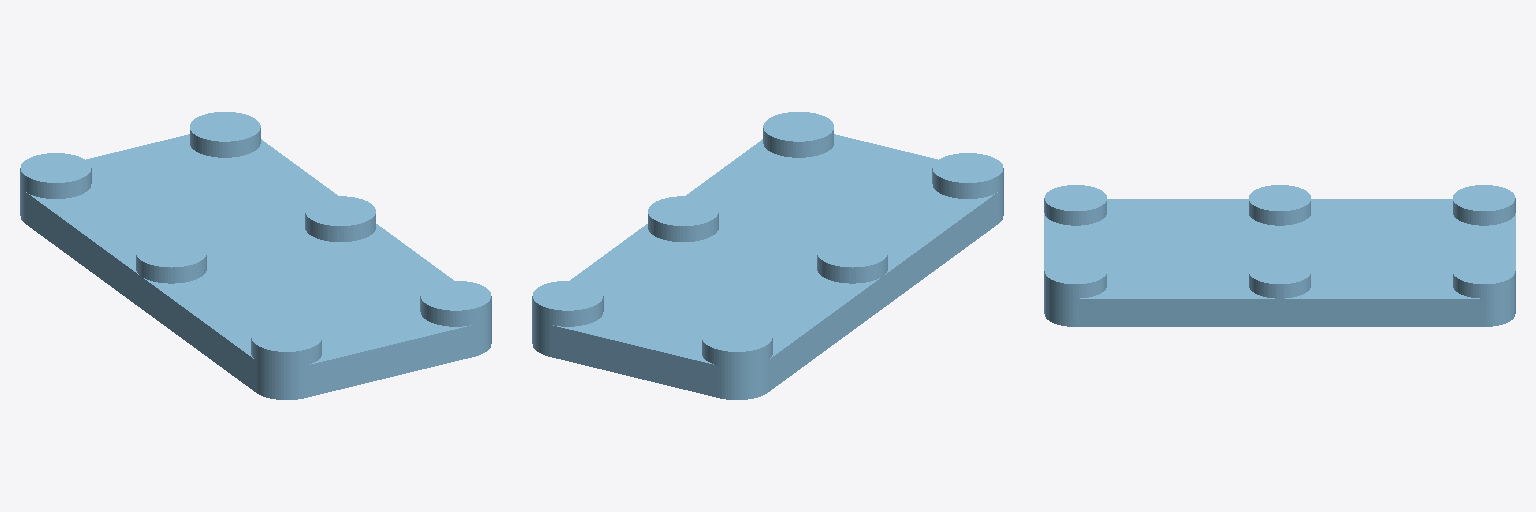
robot.urdf — onshape:
<robot name="onshape">
<link name="part_1">
<visual>
<origin xyz="0 0 0" rpy="0 -0 0" />
<geometry>
<mesh filename="package://quadruped_description/quadruped/part_1.stl"/>
</geometry>
<material name="part_1_material">
<color rgba="0.61568627450980395466 0.81176470588235294379 0.92941176470588238168 1.0"/>
</material>
</visual>
<collision>
<origin xyz="0 0 0" rpy="0 -0 0" />
<geometry>
<mesh filename="package://quadruped_description/quadruped/part_1.stl"/>
</geometry>
</collision>
<inertial>
<origin xyz="0.0099999999999999689831 8.4269380658660743889e-17 0.055838601945946725325" rpy="0 0 0"/>
<mass value="326.87920065876988929" />
<inertia ixx="63.344754222541560296" ixy="-1.2537678894135085843e-15"  ixz="1.5097018942200093052e-16" iyy="16.325740813613357716" iyz="-4.592017227053983098e-16" izz="78.893513511860987819" />
</inertial>
</link>

<link name="shoulder">
<visual>
<origin xyz="0 0 0" rpy="3.141592653589793116 -0 0" />
<geometry>
<mesh filename="package://quadruped_description/quadruped/shoulder.stl"/>
</geometry>
<material name="shoulder_material">
<color rgba="0.61568627450980395466 0.81176470588235294379 0.92941176470588238168 1.0"/>
</material>
</visual>
<collision>
<origin xyz="0 0 0" rpy="3.141592653589793116 -0 0" />
<geometry>
<mesh filename="package://quadruped_description/quadruped/shoulder.stl"/>
</geometry>
</collision>
<inertial>
<origin xyz="-3.7347681414163801479e-19 0.027929396093619204833 -0.095649350649350664555" rpy="0 0 0"/>
<mass value="10.885618544688634657" />
<inertia ixx="0.067417122752900543459" ixy="0"  ixz="0" iyy="0.075908462192995490581" iyz="0.0092341600956555008189" izz="0.043109319895117424737" />
</inertial>
</link>

<link name="upperlimb">
<visual>
<origin xyz="0 0 0" rpy="1.570796326794896558 -0 0" />
<geometry>
<mesh filename="package://quadruped_description/quadruped/upperlimb.stl"/>
</geometry>
<material name="upperlimb_material">
<color rgba="0.61568627450980395466 0.81176470588235294379 0.92941176470588238168 1.0"/>
</material>
</visual>
<collision>
<origin xyz="0 0 0" rpy="1.570796326794896558 -0 0" />
<geometry>
<mesh filename="package://quadruped_description/quadruped/upperlimb.stl"/>
</geometry>
</collision>
<inertial>
<origin xyz="-2.4439725848620533434e-18 -0.50000000000000011102 -0.041859986609857721684" rpy="0 0 0"/>
<mass value="48.066367599923843557" />
<inertia ixx="5.204489452505125513" ixy="0"  ixz="0" iyy="0.15045227104254321748" iyz="0" izz="5.2887141526857410767" />
</inertial>
</link>

<link name="lowerlimb">
<visual>
<origin xyz="0 1.5250000000000001332 0" rpy="1.570796326794896558 -4.6222318665293660473e-33 0" />
<geometry>
<mesh filename="package://quadruped_description/quadruped/lowerlimb.stl"/>
</geometry>
<material name="lowerlimb_material">
<color rgba="0.61568627450980395466 0.81176470588235294379 0.92941176470588238168 1.0"/>
</material>
</visual>
<collision>
<origin xyz="0 1.5250000000000001332 0" rpy="1.570796326794896558 -4.6222318665293660473e-33 0" />
<geometry>
<mesh filename="package://quadruped_description/quadruped/lowerlimb.stl"/>
</geometry>
</collision>
<inertial>
<origin xyz="4.0731331005033949627e-18 0.86258161512027509144 -0.029947488034416901159" rpy="0 0 0"/>
<mass value="82.278311597516690767" />
<inertia ixx="21.219064546212177191" ixy="-1.1534501519517249664e-16"  ixz="3.2465757913573069754e-32" iyy="0.32911778625415522015" iyz="-0.58453590065355065519" izz="21.292856017780909639" />
</inertial>
</link>

<joint name="lowerlimb1" type="revolute">
<origin xyz="0 -1 0" rpy="-3.141592653589793116 6.1232339957367598729e-17 2.7925268031909271649" />
<parent link="upperlimb" />
<child link="lowerlimb" />
<axis xyz="0 0 1"/>
<limit effort="1" velocity="20" lower="0.34906585039886589561" upper="3.141592653589793116"/>
<joint_properties friction="0.0"/>
</joint>

<joint name="upperlimb1" type="revolute">
<origin xyz="5.5511151231257827021e-17 0 -0.1500000000000000222" rpy="1.570796326794896558 -0 3.141592653589793116" />
<parent link="shoulder" />
<child link="upperlimb" />
<axis xyz="0 0 1"/>
<limit effort="1" velocity="20" lower="-0.34906585039886589561" upper="1.570796326794896558"/>
<joint_properties friction="0.0"/>
</joint>

<joint name="shoulder1" type="revolute">
<origin xyz="-0.26499999999999995781 -0.65000000000000013323 0.1500000000000000222" rpy="3.141592653589793116 -0 0" />
<parent link="part_1" />
<child link="shoulder" />
<axis xyz="0 0 1"/>
<limit effort="1" velocity="20" lower="-1.570796326794896558" upper="0.785398163397448279"/>
<joint_properties friction="0.0"/>
</joint>

<link name="shoulder_2">
<visual>
<origin xyz="0 0 0" rpy="3.141592653589793116 -0 0" />
<geometry>
<mesh filename="package://quadruped_description/quadruped/shoulder.stl"/>
</geometry>
<material name="shoulder_material">
<color rgba="0.61568627450980395466 0.81176470588235294379 0.92941176470588238168 1.0"/>
</material>
</visual>
<collision>
<origin xyz="0 0 0" rpy="3.141592653589793116 -0 0" />
<geometry>
<mesh filename="package://quadruped_description/quadruped/shoulder.stl"/>
</geometry>
</collision>
<inertial>
<origin xyz="-3.7347681414163801479e-19 0.027929396093619204833 -0.095649350649350664555" rpy="0 0 0"/>
<mass value="10.885618544688634657" />
<inertia ixx="0.067417122752900543459" ixy="0"  ixz="0" iyy="0.075908462192995490581" iyz="0.0092341600956555008189" izz="0.043109319895117424737" />
</inertial>
</link>

<link name="upperlimb_2">
<visual>
<origin xyz="0 0 0" rpy="1.570796326794896558 -0 0" />
<geometry>
<mesh filename="package://quadruped_description/quadruped/upperlimb.stl"/>
</geometry>
<material name="upperlimb_material">
<color rgba="0.61568627450980395466 0.81176470588235294379 0.92941176470588238168 1.0"/>
</material>
</visual>
<collision>
<origin xyz="0 0 0" rpy="1.570796326794896558 -0 0" />
<geometry>
<mesh filename="package://quadruped_description/quadruped/upperlimb.stl"/>
</geometry>
</collision>
<inertial>
<origin xyz="-2.4439725848620533434e-18 -0.50000000000000011102 -0.041859986609857721684" rpy="0 0 0"/>
<mass value="48.066367599923843557" />
<inertia ixx="5.204489452505125513" ixy="0"  ixz="0" iyy="0.15045227104254321748" iyz="0" izz="5.2887141526857410767" />
</inertial>
</link>

<link name="lowerlimb_2">
<visual>
<origin xyz="-1.1102230246251565404e-16 1.5249999999999999112 0" rpy="1.570796326794896558 -7.7037197775489434122e-33 0" />
<geometry>
<mesh filename="package://quadruped_description/quadruped/lowerlimb.stl"/>
</geometry>
<material name="lowerlimb_material">
<color rgba="0.61568627450980395466 0.81176470588235294379 0.92941176470588238168 1.0"/>
</material>
</visual>
<collision>
<origin xyz="-1.1102230246251565404e-16 1.5249999999999999112 0" rpy="1.570796326794896558 -7.7037197775489434122e-33 0" />
<geometry>
<mesh filename="package://quadruped_description/quadruped/lowerlimb.stl"/>
</geometry>
</collision>
<inertial>
<origin xyz="-1.0694916936201226216e-16 0.86258161512027475837 -0.029947488034416901159" rpy="0 0 0"/>
<mass value="82.278311597516690767" />
<inertia ixx="21.219064546212177191" ixy="-1.1534501519517249664e-16"  ixz="2.9469308402548699336e-31" iyy="0.32911778625415522015" iyz="-0.58453590065355065519" izz="21.292856017780909639" />
</inertial>
</link>

<joint name="lowerlimb2" type="revolute">
<origin xyz="-5.5511151231257827021e-17 -1 0" rpy="-3.141592653589793116 6.1232339957367660359e-17 -2.792526803190927609" />
<parent link="upperlimb_2" />
<child link="lowerlimb_2" />
<axis xyz="0 0 1"/>
<limit effort="1" velocity="20" lower="-3.141592653589793116" upper="-0.34906585039886589561"/>
<joint_properties friction="0.0"/>
</joint>

<joint name="upperlimb2" type="revolute">
<origin xyz="0 0 -0.15000000000000007772" rpy="1.570796326794896558 -0 3.141592653589793116" />
<parent link="shoulder_2" />
<child link="upperlimb_2" />
<axis xyz="0 0 1"/>
<limit effort="1" velocity="20" lower="-1.570796326794896558" upper="0.34906585039886589561"/>
<joint_properties friction="0.0"/>
</joint>

<joint name="shoulder2" type="revolute">
<origin xyz="0.2850000000000000866 -0.6500000000000000222 0.1500000000000000222" rpy="3.141592653589793116 -0 0" />
<parent link="part_1" />
<child link="shoulder_2" />
<axis xyz="0 0 1"/>
<limit effort="1" velocity="20" lower="-0.785398163397448279" upper="1.570796326794896558"/>
<joint_properties friction="0.0"/>
</joint>

<link name="shoulder_3">
<visual>
<origin xyz="0 6.1232339957367771292e-18 0" rpy="3.141592653589793116 -0 0" />
<geometry>
<mesh filename="package://quadruped_description/quadruped/shoulder.stl"/>
</geometry>
<material name="shoulder_material">
<color rgba="0.61568627450980395466 0.81176470588235294379 0.92941176470588238168 1.0"/>
</material>
</visual>
<collision>
<origin xyz="0 6.1232339957367771292e-18 0" rpy="3.141592653589793116 -0 0" />
<geometry>
<mesh filename="package://quadruped_description/quadruped/shoulder.stl"/>
</geometry>
</collision>
<inertial>
<origin xyz="-3.7347681414163801479e-19 0.027929396093619211772 -0.095649350649350664555" rpy="0 0 0"/>
<mass value="10.885618544688634657" />
<inertia ixx="0.067417122752900543459" ixy="0"  ixz="0" iyy="0.075908462192995490581" iyz="0.0092341600956555008189" izz="0.043109319895117424737" />
</inertial>
</link>

<link name="upperlimb_3">
<visual>
<origin xyz="0 0 0" rpy="1.570796326794896558 -0 0" />
<geometry>
<mesh filename="package://quadruped_description/quadruped/upperlimb.stl"/>
</geometry>
<material name="upperlimb_material">
<color rgba="0.61568627450980395466 0.81176470588235294379 0.92941176470588238168 1.0"/>
</material>
</visual>
<collision>
<origin xyz="0 0 0" rpy="1.570796326794896558 -0 0" />
<geometry>
<mesh filename="package://quadruped_description/quadruped/upperlimb.stl"/>
</geometry>
</collision>
<inertial>
<origin xyz="-2.4439725848620533434e-18 -0.50000000000000011102 -0.041859986609857721684" rpy="0 0 0"/>
<mass value="48.066367599923843557" />
<inertia ixx="5.204489452505125513" ixy="0"  ixz="0" iyy="0.15045227104254321748" iyz="0" izz="5.2887141526857410767" />
</inertial>
</link>

<link name="lowerlimb_3">
<visual>
<origin xyz="0 1.5249999999999999112 0" rpy="1.570796326794896558 -4.6222318665293660473e-33 0" />
<geometry>
<mesh filename="package://quadruped_description/quadruped/lowerlimb.stl"/>
</geometry>
<material name="lowerlimb_material">
<color rgba="0.61568627450980395466 0.81176470588235294379 0.92941176470588238168 1.0"/>
</material>
</visual>
<collision>
<origin xyz="0 1.5249999999999999112 0" rpy="1.570796326794896558 -4.6222318665293660473e-33 0" />
<geometry>
<mesh filename="package://quadruped_description/quadruped/lowerlimb.stl"/>
</geometry>
</collision>
<inertial>
<origin xyz="4.0731331005033949627e-18 0.86258161512027475837 -0.029947488034416901159" rpy="0 0 0"/>
<mass value="82.278311597516690767" />
<inertia ixx="21.219064546212177191" ixy="-1.1534501519517249664e-16"  ixz="-3.3147920496299262356e-32" iyy="0.32911778625415522015" iyz="-0.58453590065355065519" izz="21.292856017780909639" />
</inertial>
</link>

<joint name="lowerlimb3" type="revolute">
<origin xyz="0 -0.99999999999999977796 0" rpy="-3.141592653589793116 6.1232339957367648033e-17 2.7925268031909271649" />
<parent link="upperlimb_3" />
<child link="lowerlimb_3" />
<axis xyz="0 0 1"/>
<limit effort="1" velocity="20" lower="0.34906585039886589561" upper="3.141592653589793116"/>
<joint_properties friction="0.0"/>
</joint>

<joint name="upperlimb3" type="revolute">
<origin xyz="0 6.1232339957367771292e-18 -0.1500000000000000222" rpy="1.570796326794896558 -0 3.141592653589793116" />
<parent link="shoulder_3" />
<child link="upperlimb_3" />
<axis xyz="0 0 1"/>
<limit effort="1" velocity="20" lower="-0.34906585039886589561" upper="1.570796326794896558"/>
<joint_properties friction="0.0"/>
</joint>

<joint name="shoulder3" type="revolute">
<origin xyz="-0.26500000000000001332 -1.2571575017850056205e-16 0.1500000000000000222" rpy="3.141592653589793116 -0 0" />
<parent link="part_1" />
<child link="shoulder_3" />
<axis xyz="0 0 1"/>
<limit effort="1" velocity="20" lower="-0.785398163397448279" upper="0.785398163397448279"/>
<joint_properties friction="0.0"/>
</joint>

<link name="shoulder_4">
<visual>
<origin xyz="0 6.123233995736766344e-18 0" rpy="3.141592653589793116 -0 0" />
<geometry>
<mesh filename="package://quadruped_description/quadruped/shoulder.stl"/>
</geometry>
<material name="shoulder_material">
<color rgba="0.61568627450980395466 0.81176470588235294379 0.92941176470588238168 1.0"/>
</material>
</visual>
<collision>
<origin xyz="0 6.123233995736766344e-18 0" rpy="3.141592653589793116 -0 0" />
<geometry>
<mesh filename="package://quadruped_description/quadruped/shoulder.stl"/>
</geometry>
</collision>
<inertial>
<origin xyz="-3.7347681414163801479e-19 0.027929396093619211772 -0.095649350649350664555" rpy="0 0 0"/>
<mass value="10.885618544688634657" />
<inertia ixx="0.067417122752900543459" ixy="0"  ixz="0" iyy="0.075908462192995490581" iyz="0.0092341600956555008189" izz="0.043109319895117424737" />
</inertial>
</link>

<link name="upperlimb_4">
<visual>
<origin xyz="0 0 0" rpy="1.570796326794896558 -0 0" />
<geometry>
<mesh filename="package://quadruped_description/quadruped/upperlimb.stl"/>
</geometry>
<material name="upperlimb_material">
<color rgba="0.61568627450980395466 0.81176470588235294379 0.92941176470588238168 1.0"/>
</material>
</visual>
<collision>
<origin xyz="0 0 0" rpy="1.570796326794896558 -0 0" />
<geometry>
<mesh filename="package://quadruped_description/quadruped/upperlimb.stl"/>
</geometry>
</collision>
<inertial>
<origin xyz="-2.4439725848620533434e-18 -0.50000000000000011102 -0.041859986609857721684" rpy="0 0 0"/>
<mass value="48.066367599923843557" />
<inertia ixx="5.204489452505125513" ixy="0"  ixz="0" iyy="0.15045227104254321748" iyz="0" izz="5.2887141526857410767" />
</inertial>
</link>

<link name="lowerlimb_4">
<visual>
<origin xyz="-1.1102230246251565404e-16 1.5249999999999999112 0" rpy="1.570796326794896558 -7.7037197775489434122e-33 0" />
<geometry>
<mesh filename="package://quadruped_description/quadruped/lowerlimb.stl"/>
</geometry>
<material name="lowerlimb_material">
<color rgba="0.61568627450980395466 0.81176470588235294379 0.92941176470588238168 1.0"/>
</material>
</visual>
<collision>
<origin xyz="-1.1102230246251565404e-16 1.5249999999999999112 0" rpy="1.570796326794896558 -7.7037197775489434122e-33 0" />
<geometry>
<mesh filename="package://quadruped_description/quadruped/lowerlimb.stl"/>
</geometry>
</collision>
<inertial>
<origin xyz="-1.0694916936201226216e-16 0.86258161512027475837 -0.029947488034416901159" rpy="0 0 0"/>
<mass value="82.278311597516690767" />
<inertia ixx="21.219064546212177191" ixy="-1.1534501519517249664e-16"  ixz="2.9469308402548699336e-31" iyy="0.32911778625415522015" iyz="-0.58453590065355065519" izz="21.292856017780909639" />
</inertial>
</link>

<joint name="lowerlimb4" type="revolute">
<origin xyz="0 -1 3.336929161102777063e-33" rpy="-3.141592653589793116 6.1232339957367660359e-17 -2.792526803190927609" />
<parent link="upperlimb_4" />
<child link="lowerlimb_4" />
<axis xyz="0 0 1"/>
<limit effort="1" velocity="20" lower="-3.141592653589793116" upper="-0.34906585039886589561"/>
<joint_properties friction="0.0"/>
</joint>

<joint name="upperlimb4" type="revolute">
<origin xyz="0 6.123233995736766344e-18 -0.1500000000000000222" rpy="1.570796326794896558 -0 3.141592653589793116" />
<parent link="shoulder_4" />
<child link="upperlimb_4" />
<axis xyz="0 0 1"/>
<limit effort="1" velocity="20" lower="-1.570796326794896558" upper="0.34906585039886589561"/>
<joint_properties friction="0.0"/>
</joint>

<joint name="shoulder4" type="revolute">
<origin xyz="0.28500000000000003109 6.123233995736766344e-18 0.1500000000000000222" rpy="3.141592653589793116 -0 0" />
<parent link="part_1" />
<child link="shoulder_4" />
<axis xyz="0 0 1"/>
<limit effort="1" velocity="20" lower="-0.785398163397448279" upper="0.785398163397448279"/>
<joint_properties friction="0.0"/>
</joint>

<link name="shoulder_5">
<visual>
<origin xyz="0 0 0" rpy="3.141592653589793116 -0 0" />
<geometry>
<mesh filename="package://quadruped_description/quadruped/shoulder.stl"/>
</geometry>
<material name="shoulder_material">
<color rgba="0.61568627450980395466 0.81176470588235294379 0.92941176470588238168 1.0"/>
</material>
</visual>
<collision>
<origin xyz="0 0 0" rpy="3.141592653589793116 -0 0" />
<geometry>
<mesh filename="package://quadruped_description/quadruped/shoulder.stl"/>
</geometry>
</collision>
<inertial>
<origin xyz="-3.7347681414163801479e-19 0.027929396093619204833 -0.095649350649350664555" rpy="0 0 0"/>
<mass value="10.885618544688634657" />
<inertia ixx="0.067417122752900543459" ixy="0"  ixz="0" iyy="0.075908462192995490581" iyz="0.0092341600956555008189" izz="0.043109319895117424737" />
</inertial>
</link>

<link name="upperlimb_5">
<visual>
<origin xyz="0 0 0" rpy="1.570796326794896558 -0 0" />
<geometry>
<mesh filename="package://quadruped_description/quadruped/upperlimb.stl"/>
</geometry>
<material name="upperlimb_material">
<color rgba="0.61568627450980395466 0.81176470588235294379 0.92941176470588238168 1.0"/>
</material>
</visual>
<collision>
<origin xyz="0 0 0" rpy="1.570796326794896558 -0 0" />
<geometry>
<mesh filename="package://quadruped_description/quadruped/upperlimb.stl"/>
</geometry>
</collision>
<inertial>
<origin xyz="-2.4439725848620533434e-18 -0.50000000000000011102 -0.041859986609857721684" rpy="0 0 0"/>
<mass value="48.066367599923843557" />
<inertia ixx="5.204489452505125513" ixy="0"  ixz="0" iyy="0.15045227104254321748" iyz="0" izz="5.2887141526857410767" />
</inertial>
</link>

<link name="lowerlimb_5">
<visual>
<origin xyz="-1.1102230246251565404e-16 1.5249999999999999112 0" rpy="1.570796326794896558 -4.6222318665293660473e-33 0" />
<geometry>
<mesh filename="package://quadruped_description/quadruped/lowerlimb.stl"/>
</geometry>
<material name="lowerlimb_material">
<color rgba="0.61568627450980395466 0.81176470588235294379 0.92941176470588238168 1.0"/>
</material>
</visual>
<collision>
<origin xyz="-1.1102230246251565404e-16 1.5249999999999999112 0" rpy="1.570796326794896558 -4.6222318665293660473e-33 0" />
<geometry>
<mesh filename="package://quadruped_description/quadruped/lowerlimb.stl"/>
</geometry>
</collision>
<inertial>
<origin xyz="-1.0694916936201226216e-16 0.86258161512027475837 -0.029947488034416901159" rpy="0 0 0"/>
<mass value="82.278311597516690767" />
<inertia ixx="21.219064546212177191" ixy="-1.1534501519517249664e-16"  ixz="-3.3147920496299262356e-32" iyy="0.32911778625415522015" iyz="-0.58453590065355065519" izz="21.292856017780909639" />
</inertial>
</link>

<joint name="lowerlimb5" type="revolute">
<origin xyz="0 -0.99999999999999977796 0" rpy="-3.141592653589793116 6.1232339957367648033e-17 2.7925268031909271649" />
<parent link="upperlimb_5" />
<child link="lowerlimb_5" />
<axis xyz="0 0 1"/>
<limit effort="1" velocity="20" lower="0.34906585039886589561" upper="3.141592653589793116"/>
<joint_properties friction="0.0"/>
</joint>

<joint name="upperlimb5" type="revolute">
<origin xyz="0 0 -0.1500000000000000222" rpy="1.570796326794896558 -0 3.141592653589793116" />
<parent link="shoulder_5" />
<child link="upperlimb_5" />
<axis xyz="0 0 1"/>
<limit effort="1" velocity="20" lower="-0.34906585039886589561" upper="1.570796326794896558"/>
<joint_properties friction="0.0"/>
</joint>

<joint name="shoulder5" type="revolute">
<origin xyz="-0.26500000000000001332 0.64999999999999991118 0.1500000000000000222" rpy="3.141592653589793116 -0 0" />
<parent link="part_1" />
<child link="shoulder_5" />
<axis xyz="0 0 1"/>
<limit effort="1" velocity="20" lower="-0.785398163397448279" upper="1.570796326794896558"/>
<joint_properties friction="0.0"/>
</joint>

<link name="shoulder_6">
<visual>
<origin xyz="0 0 0" rpy="3.141592653589793116 -0 0" />
<geometry>
<mesh filename="package://quadruped_description/quadruped/shoulder.stl"/>
</geometry>
<material name="shoulder_material">
<color rgba="0.61568627450980395466 0.81176470588235294379 0.92941176470588238168 1.0"/>
</material>
</visual>
<collision>
<origin xyz="0 0 0" rpy="3.141592653589793116 -0 0" />
<geometry>
<mesh filename="package://quadruped_description/quadruped/shoulder.stl"/>
</geometry>
</collision>
<inertial>
<origin xyz="-3.7347681414163801479e-19 0.027929396093619204833 -0.095649350649350664555" rpy="0 0 0"/>
<mass value="10.885618544688634657" />
<inertia ixx="0.067417122752900543459" ixy="0"  ixz="0" iyy="0.075908462192995490581" iyz="0.0092341600956555008189" izz="0.043109319895117424737" />
</inertial>
</link>

<link name="upperlimb_6">
<visual>
<origin xyz="0 0 0" rpy="1.570796326794896558 -0 0" />
<geometry>
<mesh filename="package://quadruped_description/quadruped/upperlimb.stl"/>
</geometry>
<material name="upperlimb_material">
<color rgba="0.61568627450980395466 0.81176470588235294379 0.92941176470588238168 1.0"/>
</material>
</visual>
<collision>
<origin xyz="0 0 0" rpy="1.570796326794896558 -0 0" />
<geometry>
<mesh filename="package://quadruped_description/quadruped/upperlimb.stl"/>
</geometry>
</collision>
<inertial>
<origin xyz="-2.4439725848620533434e-18 -0.50000000000000011102 -0.041859986609857721684" rpy="0 0 0"/>
<mass value="48.066367599923843557" />
<inertia ixx="5.204489452505125513" ixy="0"  ixz="0" iyy="0.15045227104254321748" iyz="0" izz="5.2887141526857410767" />
</inertial>
</link>

<link name="lowerlimb_6">
<visual>
<origin xyz="-2.2204460492503130808e-16 1.5249999999999999112 0" rpy="1.570796326794896558 -7.7037197775489434122e-33 0" />
<geometry>
<mesh filename="package://quadruped_description/quadruped/lowerlimb.stl"/>
</geometry>
<material name="lowerlimb_material">
<color rgba="0.61568627450980395466 0.81176470588235294379 0.92941176470588238168 1.0"/>
</material>
</visual>
<collision>
<origin xyz="-2.2204460492503130808e-16 1.5249999999999999112 0" rpy="1.570796326794896558 -7.7037197775489434122e-33 0" />
<geometry>
<mesh filename="package://quadruped_description/quadruped/lowerlimb.stl"/>
</geometry>
</collision>
<inertial>
<origin xyz="-2.1797147182452789155e-16 0.86258161512027475837 -0.029947488034416901159" rpy="0 0 0"/>
<mass value="82.278311597516690767" />
<inertia ixx="21.219064546212177191" ixy="-1.1534501519517249664e-16"  ixz="2.9469308402548699336e-31" iyy="0.32911778625415522015" iyz="-0.58453590065355065519" izz="21.292856017780909639" />
</inertial>
</link>

<joint name="lowerlimb6" type="revolute">
<origin xyz="0 -1 0" rpy="-3.141592653589793116 6.1232339957367660359e-17 -2.792526803190927609" />
<parent link="upperlimb_6" />
<child link="lowerlimb_6" />
<axis xyz="0 0 1"/>
<limit effort="1" velocity="20" lower="-3.141592653589793116" upper="-0.34906585039886589561"/>
<joint_properties friction="0.0"/>
</joint>

<joint name="upperlimb6" type="revolute">
<origin xyz="0 0 -0.1500000000000000222" rpy="1.570796326794896558 -0 3.141592653589793116" />
<parent link="shoulder_6" />
<child link="upperlimb_6" />
<axis xyz="0 0 1"/>
<limit effort="1" velocity="20" lower="-1.570796326794896558" upper="0.34906585039886589561"/>
<joint_properties friction="0.0"/>
</joint>

<joint name="shoulder6" type="revolute">
<origin xyz="0.28500000000000003109 0.6500000000000000222 0.1500000000000000222" rpy="3.141592653589793116 -0 0" />
<parent link="part_1" />
<child link="shoulder_6" />
<axis xyz="0 0 1"/>
<limit effort="1" velocity="20" lower="-1.570796326794896558" upper="0.785398163397448279"/>
<joint_properties friction="0.0"/>
</joint>


</robot>

--- What the picture shows (computed from the rendered views, not written in the file) ---
The picture shows the robot from 3 angles, left to right: view 1: azimuth 30°, elevation 25°; view 2: azimuth 150°, elevation 25°; view 3: azimuth 270°, elevation 25°; orthographic projection.
Robot: onshape — 19 links, 18 joints (18 revolute); root link part_1; default pose: joints at zero except 6 at the middle of their limits (lowerlimb1 = 1.75, lowerlimb2 = -1.75, lowerlimb3 = 1.75, lowerlimb4 = -1.75, lowerlimb5 = 1.75, lowerlimb6 = -1.75).
Links seen in each view (by area): view 1: part_1; view 2: part_1; view 3: part_1.
Link boxes in pixels (<box>): part_1: <box>20,112,491,399</box>; part_1: <box>532,112,1003,399</box>; part_1: <box>1044,185,1515,326</box>.
Size in the robot's own frame: 0.75 by 1.5 by 0.15 metres.
1 mesh visuals loaded from 4 distinct referenced files (1 binary STL); not drawn: 18 (reference not matched to a file when rendering).